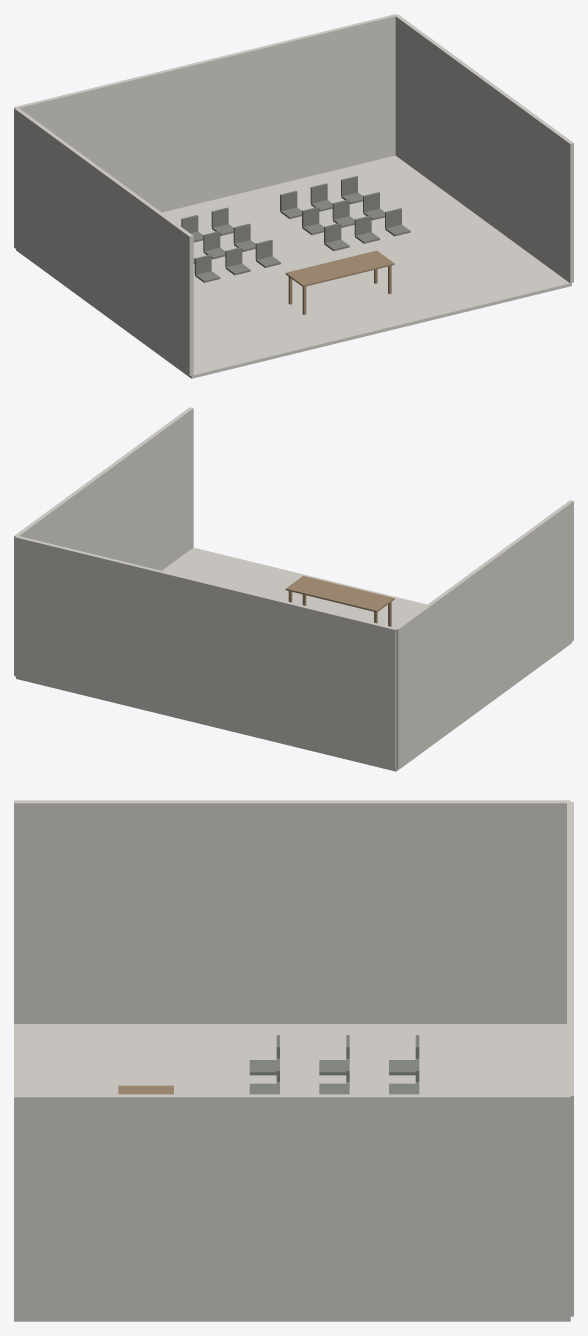
The model's file is hall_reference.glb.
3 views of the same model, one above another, from view 1: azimuth 30°, elevation 25°; view 2: azimuth 150°, elevation 25°; view 3: azimuth 270°, elevation 25° (orthographic). The views are drawn at different scales.
Parts seen in each view (by area): view 1: hall_WallBack, hall_Floor, hall_WallLeft, hall_WallRight, hall_Desk; view 2: hall_WallBack, hall_WallLeft, hall_WallRight, hall_Floor, hall_Desk; view 3: hall_WallRight, hall_WallLeft, hall_Floor, hall_WallBack.
Boxes of the visible parts, x1,y1,x2,y2 form: hall_WallBack: [14, 14, 396, 212]; hall_Floor: [16, 155, 571, 378]; hall_WallLeft: [14, 107, 193, 375]; hall_WallRight: [395, 14, 573, 283]; hall_Desk: [285, 250, 394, 287]; hall_WallBack: [14, 535, 396, 769]; hall_WallLeft: [396, 500, 573, 768]; hall_WallRight: [14, 407, 193, 675]; hall_Floor: [16, 547, 571, 771]; hall_Desk: [285, 576, 394, 612]; hall_WallRight: [14, 1094, 570, 1317]; hall_WallLeft: [14, 800, 570, 1023]; hall_Floor: [14, 1024, 570, 1321]; hall_WallBack: [567, 802, 573, 1316].
Bounding box in the file's own units: 10.1 × 3.58 × 8.05.
